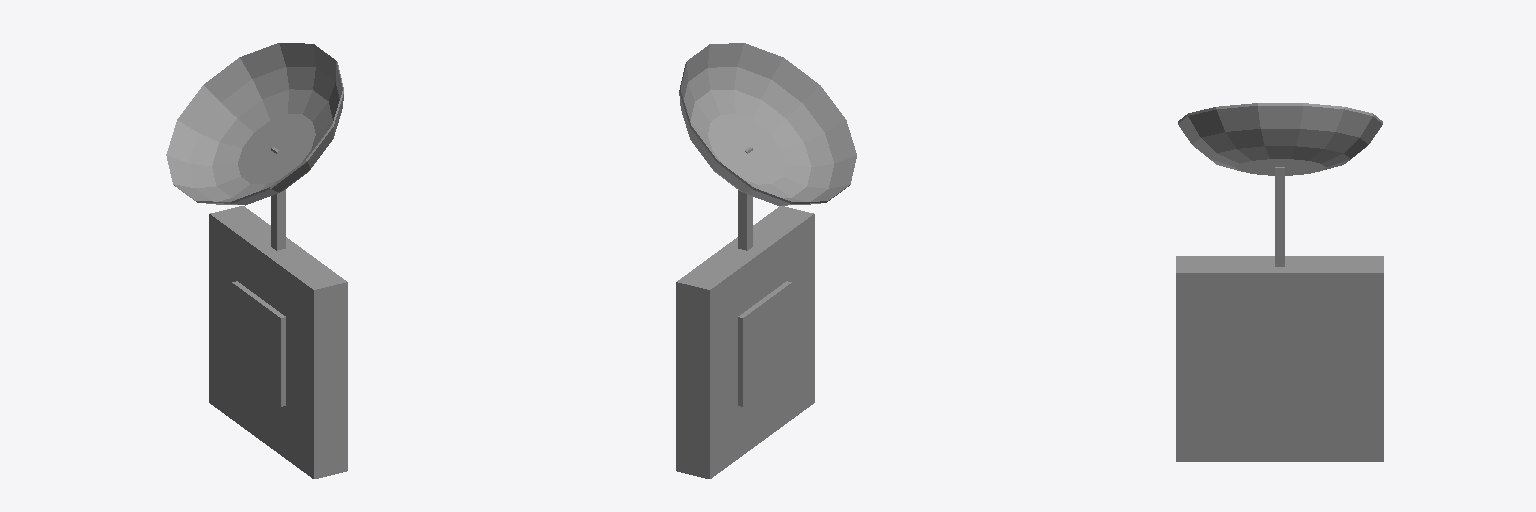
The model's file is frequencyModule.obj.
3 views of the same model, side by side, from view 1: azimuth 30°, elevation 25°; view 2: azimuth 150°, elevation 25°; view 3: azimuth 270°, elevation 25° (orthographic).
Parts seen in each view (by area): view 1: Main, Radar; view 2: Main, Radar; view 3: Main, Radar.
Part boxes in pixels (left/top/right/bottom): Main: left=209, top=147, right=347, bottom=478; Radar: left=166, top=43, right=343, bottom=205; Main: left=676, top=147, right=814, bottom=478; Radar: left=679, top=43, right=856, bottom=205; Main: left=1176, top=167, right=1383, bottom=461; Radar: left=1178, top=103, right=1382, bottom=175.
Size of the model in its own units: 0.8296 by 2.07 by 1.05.